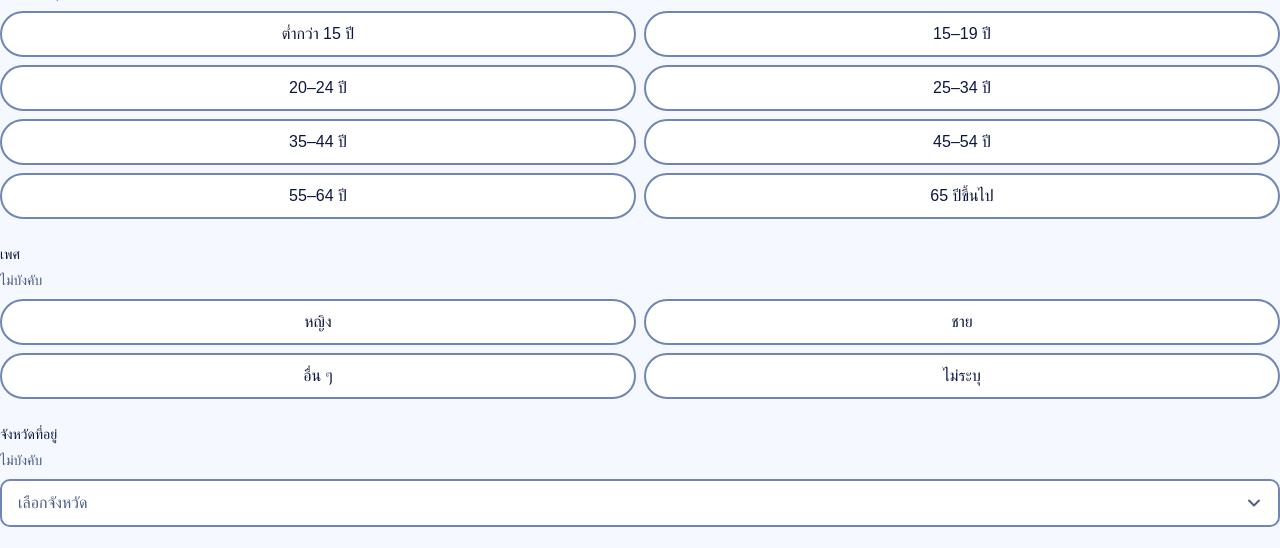
Test case: shows server field errors inline
Click the radio button labelled "35–44 ปี" at coordinates (318, 142), box left=0, top=119, right=636, bottom=165
(page scrolled)
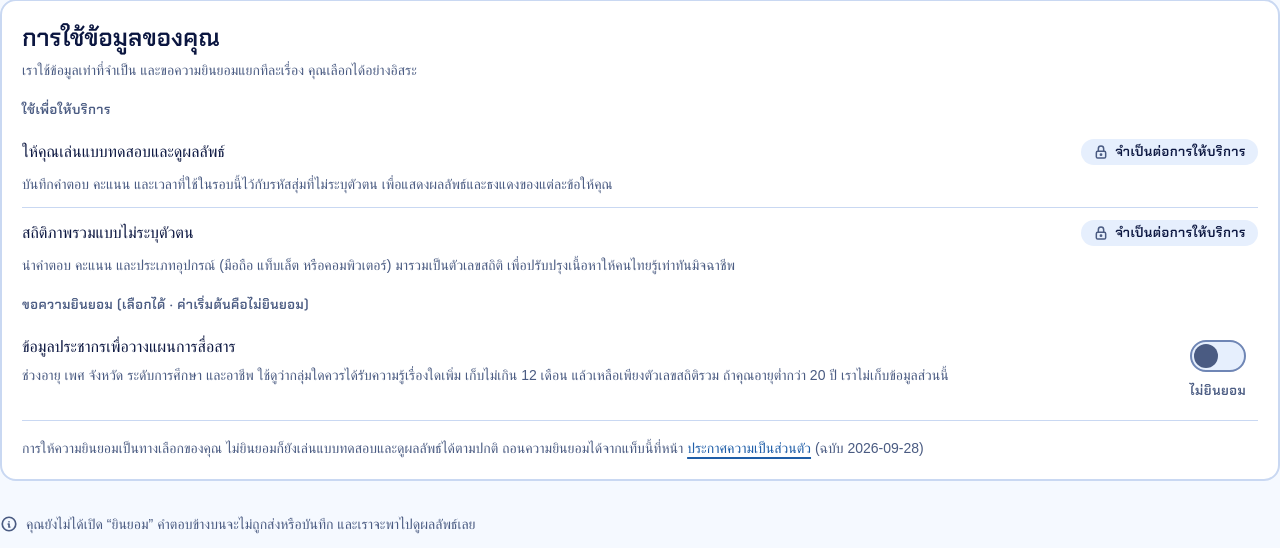
Click the switch labelled "ข้อมูลประชากรเพื่อวางแผนการสื่อสาร" at coordinates (129, 346), box left=22, top=338, right=236, bottom=355
(page scrolled)
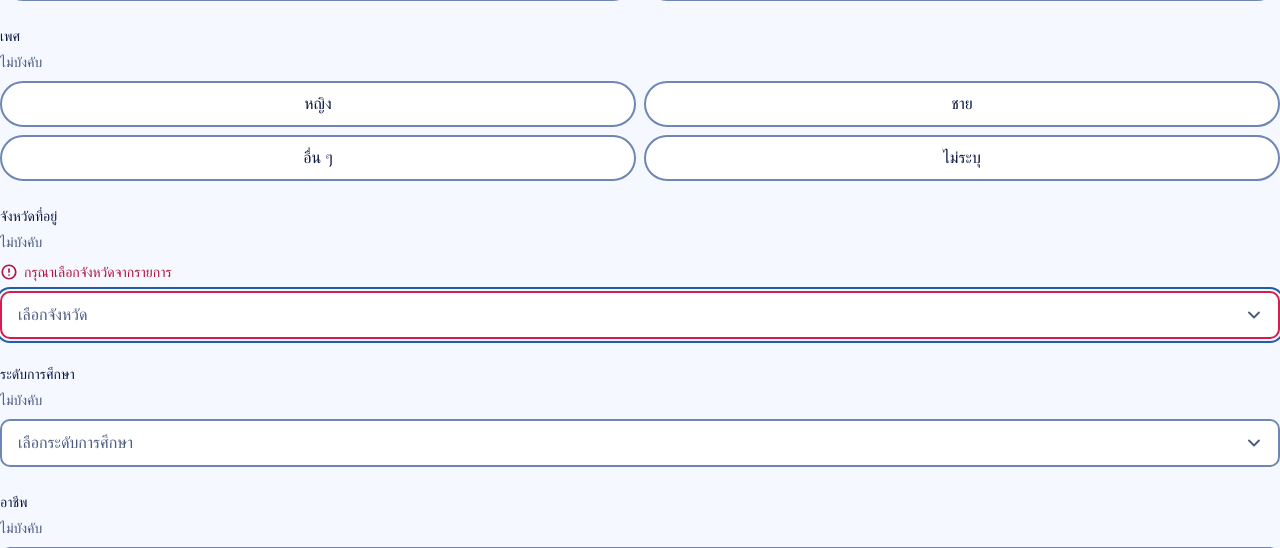
Now the text "กรุณาเลือกจังหวัดจากรายการ" is shown, box left=24, top=261, right=172, bottom=283
